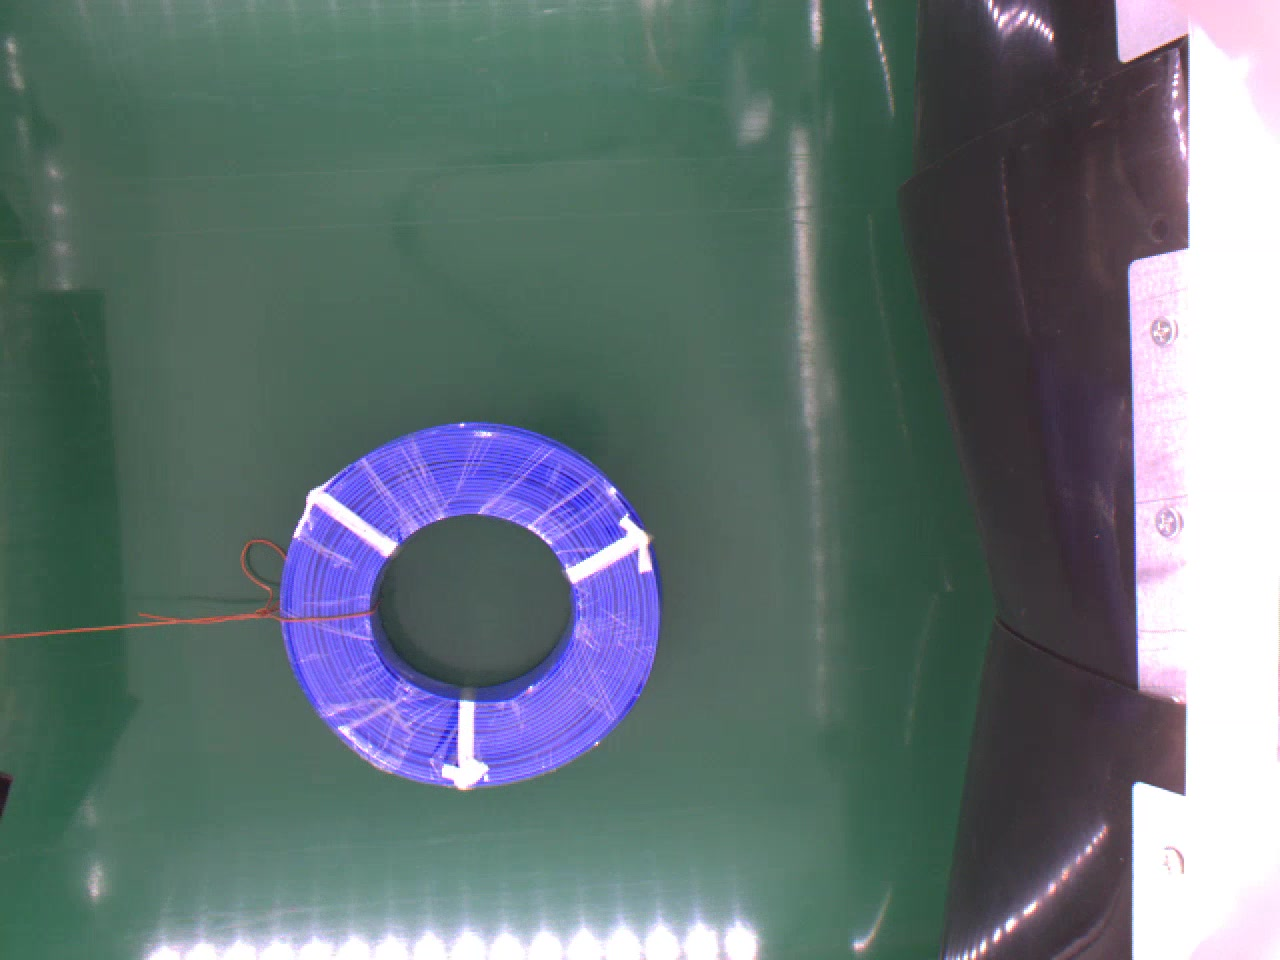blue: (274, 418, 668, 790)
